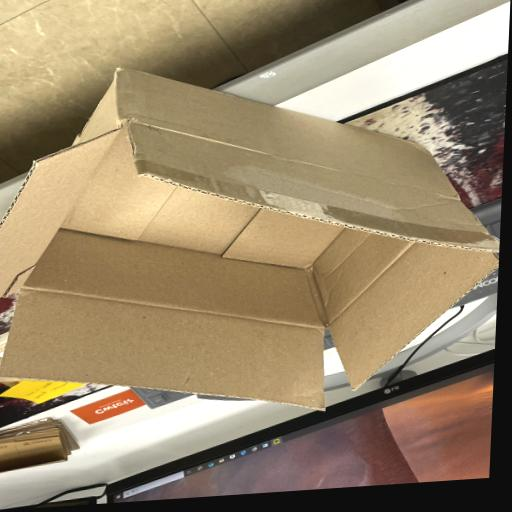box: (1, 66, 500, 411)
opened: (1, 123, 501, 411)
